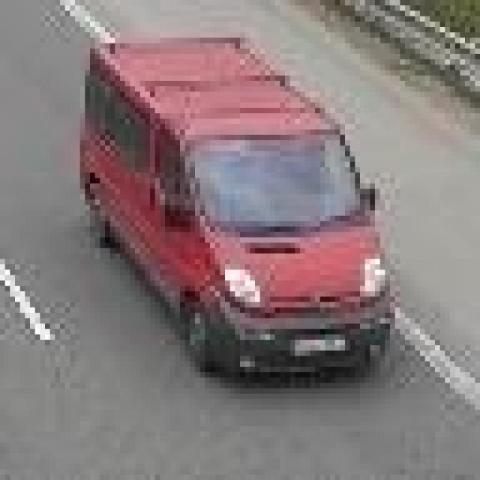van: (82, 41, 393, 380)
